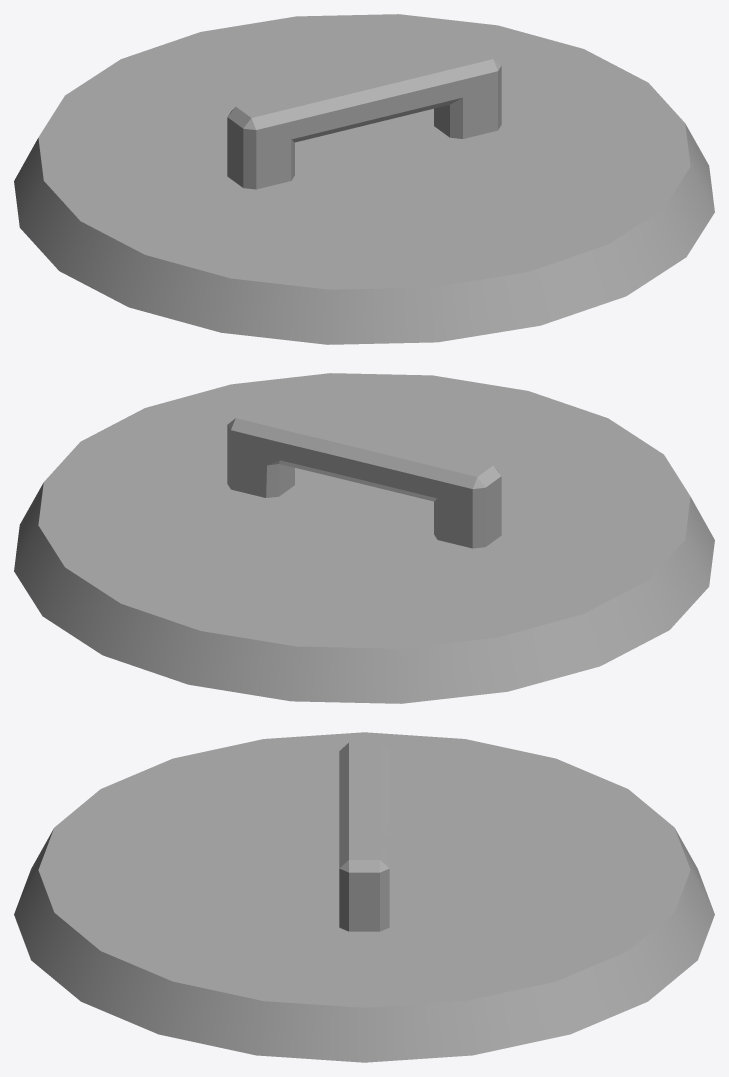
File: Rubbish_Bin_Lid.fbx
3 renders of one model, top to bottom at view 1: azimuth 30°, elevation 25°; view 2: azimuth 150°, elevation 25°; view 3: azimuth 270°, elevation 25°, orthographic.
Parts seen in each view (by area): view 1: polySurface26; view 2: polySurface26; view 3: polySurface26.
Part boxes in pixels (x1,y1,x2,y2): polySurface26: [14, 14, 714, 344]; polySurface26: [14, 373, 714, 703]; polySurface26: [14, 732, 714, 1062].
Size of the model in its own units: 3.7 by 0.6608 by 3.7.
